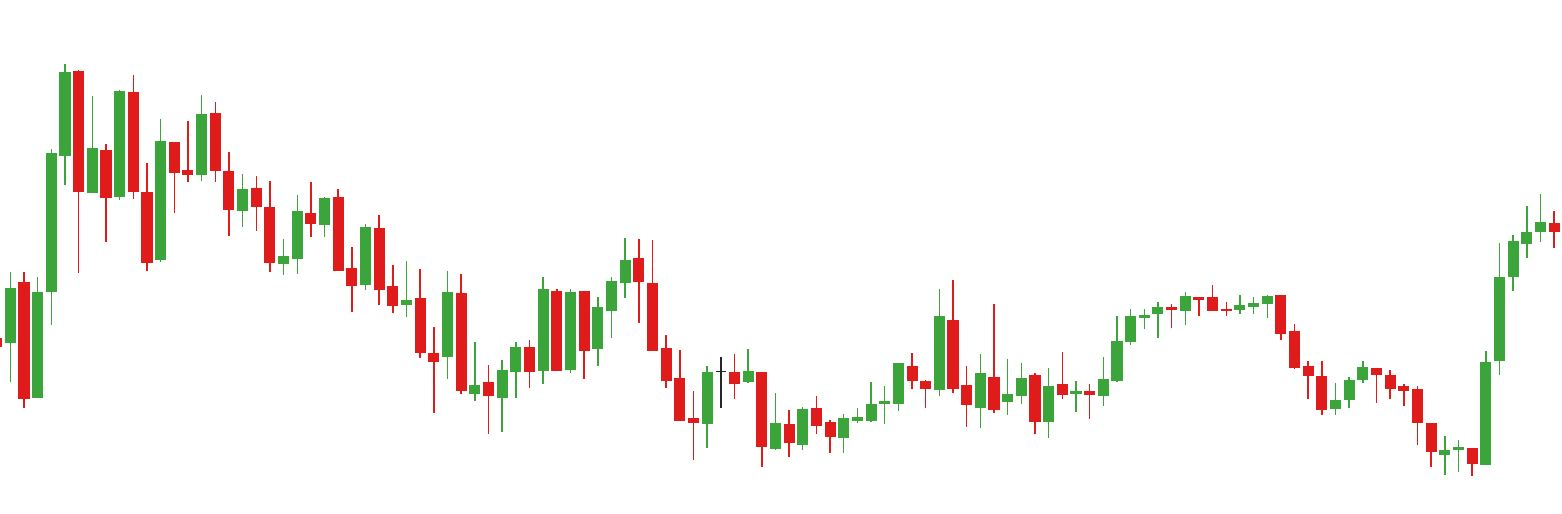buy: (481, 316, 715, 458)
